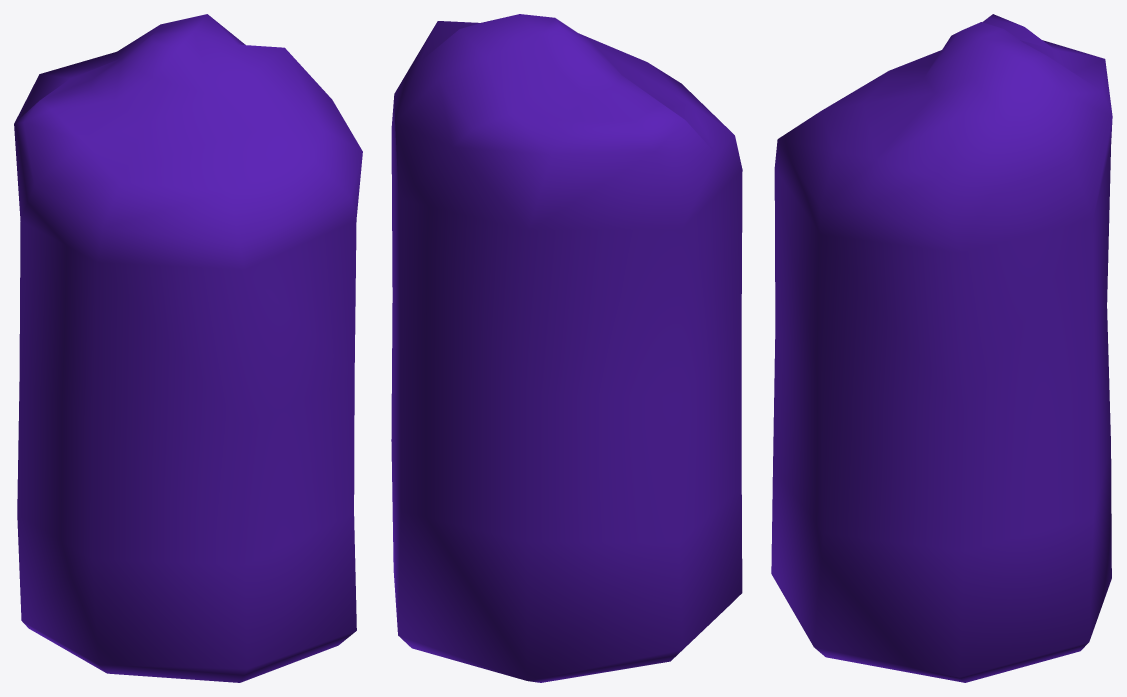
The model's file is column_01.FBX.
3 views of the same model, side by side, from view 1: azimuth 30°, elevation 25°; view 2: azimuth 150°, elevation 25°; view 3: azimuth 270°, elevation 25° (orthographic). The views are drawn at different scales.
Parts seen in each view (by area): view 1: column_01; view 2: column_01; view 3: column_01.
Boxes of the visible parts, x1=… form: column_01: x1=14, y1=14, x2=362, y2=682; column_01: x1=391, y1=14, x2=742, y2=682; column_01: x1=771, y1=14, x2=1112, y2=682.
Bounding box in the file's own units: 9.26 × 16.9 × 8.87.
